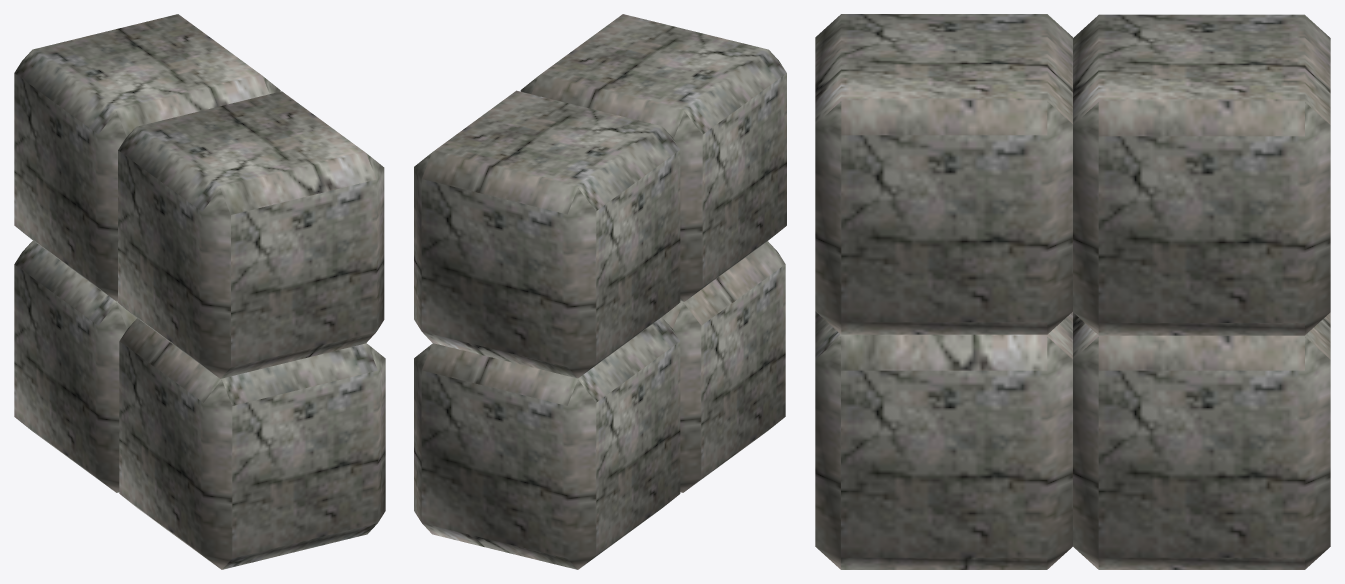
File: BLOCK_CLUSTER04.fbx
3 views of the same model, side by side, from view 1: azimuth 30°, elevation 25°; view 2: azimuth 150°, elevation 25°; view 3: azimuth 270°, elevation 25° (orthographic). The views are drawn at different scales.
Parts seen in each view (by area): view 1: BLOCK_CLUSTER04; view 2: BLOCK_CLUSTER04; view 3: BLOCK_CLUSTER04.
Boxes of the visible parts, x1,y1,x2,y2 form: BLOCK_CLUSTER04: [14, 14, 385, 569]; BLOCK_CLUSTER04: [414, 14, 786, 569]; BLOCK_CLUSTER04: [815, 14, 1330, 569].
Bounding box in the file's own units: 10075 × 20038 × 20000.
1 material, 1 textured.
